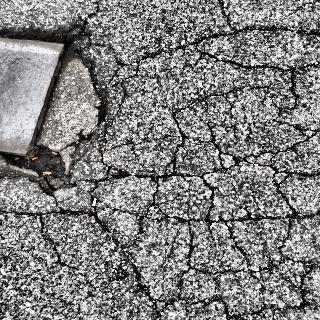alligator-crack: (91, 132, 312, 287)
